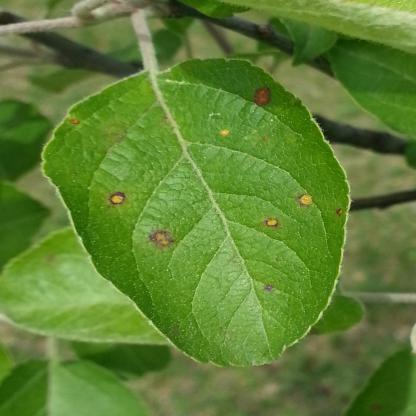Apple rust leaf: (56, 37, 416, 286)
